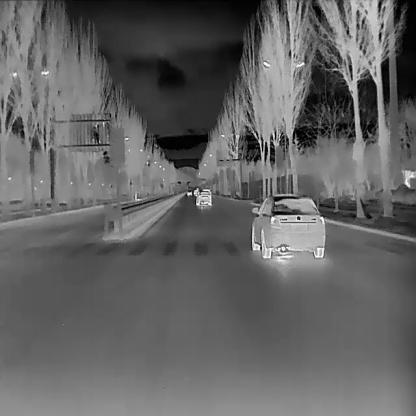car: (249, 192, 326, 258), (195, 189, 211, 205), (192, 189, 198, 195), (186, 189, 191, 195)
